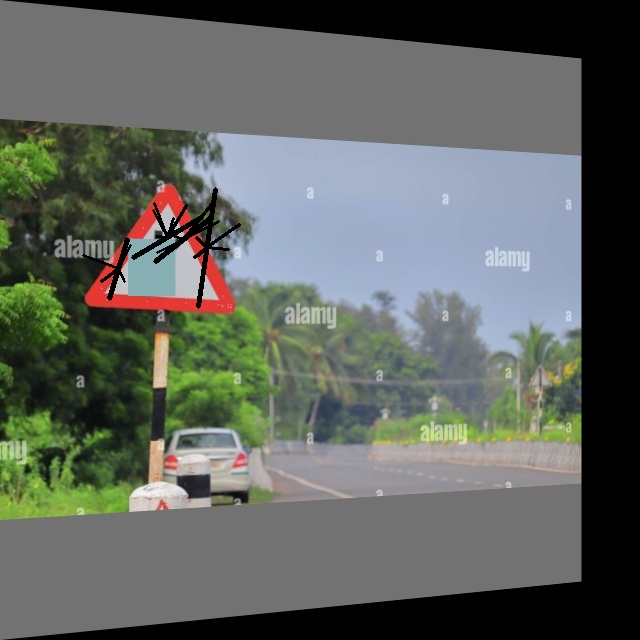Y_Intersection: (88, 175, 230, 316)
